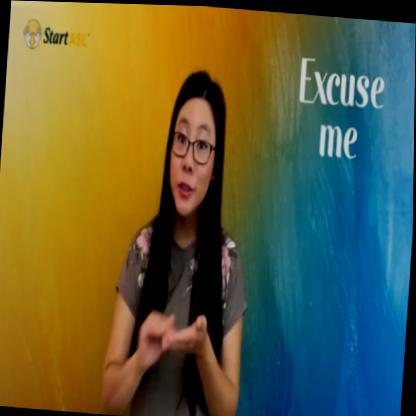ExcuseMe: (130, 280, 215, 383)
